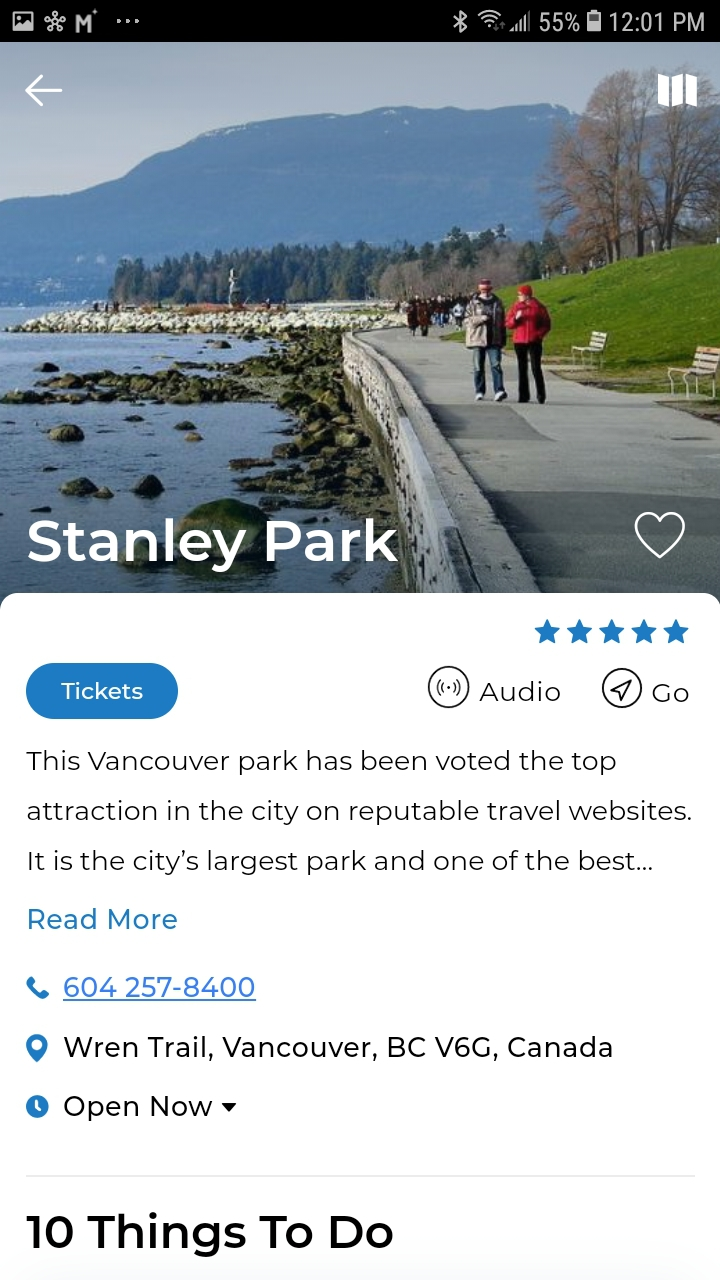Icon: (534, 618, 689, 644), (634, 513, 684, 559), (601, 667, 643, 709), (658, 75, 697, 108), (26, 76, 63, 107), (26, 1034, 49, 1063), (26, 1095, 50, 1119), (222, 1103, 237, 1112)
Image: (1, 43, 720, 594), (428, 666, 470, 709), (27, 976, 50, 999)
Text: (26, 749, 691, 876), (28, 518, 396, 572), (27, 1211, 394, 1258), (64, 1036, 613, 1061), (64, 976, 257, 1002), (65, 1095, 213, 1122), (29, 908, 178, 931), (479, 680, 561, 702), (652, 684, 690, 703)
TextButton: (26, 663, 179, 720)
UpperTaskBar: (1, 1, 720, 43)
